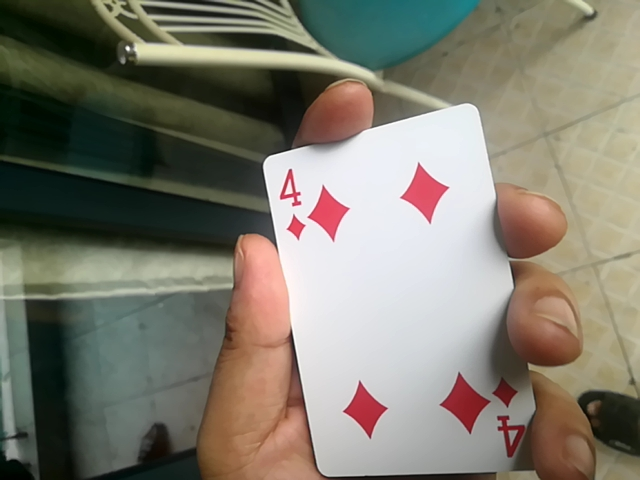fk 4: (260, 96, 535, 480)
